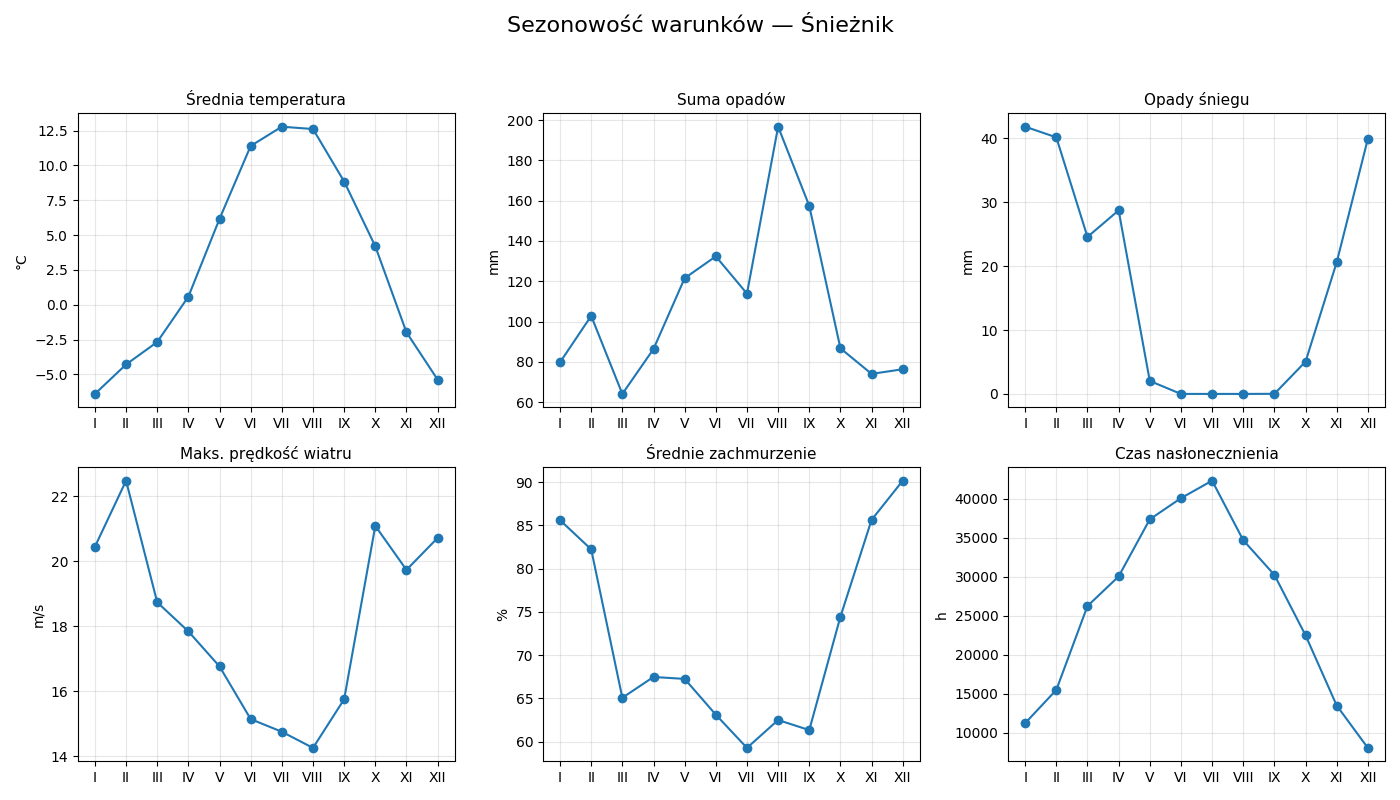

What the dashboard file says about the page in this screenshot:
{"tool":"powerbi","page":{"name":"Sezonowość","canvas":[1280,720],"ordinal":1},"visuals":[{"type":"shape","box":[5.4,271.1,591.2,127.9],"z":0},{"type":"pivotTable","fields":{"Rows":["kgp_all_monthly_clean.Szczyt"],"Columns":["Calendar.MonthName"],"Values":["HeatmapMetric.HeatmapValue"]},"box":[636.6,0,612.1,720],"z":1000},{"type":"advancedSlicerVisual","title":"Analizowana zmienna","fields":{"Values":["HeatmapMetric.Label"]},"box":[0,81.6,602.1,130.6],"z":2000},{"type":"textbox","box":[0,0,630.2,70],"z":3000},{"type":"actionButton","box":[1241,7,38,28],"z":4000},{"type":"cardVisual","title":"Najwyższe średnie odchylenie","fields":{"Data":["HeatmapMetric.KPI Max - Miesiąc"]},"box":[15.4,292.9,266.6,119.7],"z":5000},{"type":"textbox","box":[0,235.8,521.4,57.1],"z":6000},{"type":"cardVisual","title":"Najniższe średnie odchylenie","fields":{"Data":["HeatmapMetric.KPI Min - Miesiąc"]},"box":[331.9,292.9,259.3,119.7],"z":7000},{"type":"lineChart","fields":{"Category":["Calendar.MonthName"],"Y":["HeatmapMetric.KPI Średnie odchylenie"]},"box":[0,429.8,591.2,244.8],"z":8000},{"type":"textbox","box":[0,684.6,591.2,35.4],"z":9000}]}

Visuals, with their boxes in screenshot pixels (x1, y1, x2, y2), scaled from the page's 1280x720 canvas onto the 1400x800 screenshot:
shape: {"left": 6, "top": 301, "right": 653, "bottom": 443}
pivotTable - kgp_all_monthly_clean.Szczyt x Calendar.MonthName: {"left": 696, "top": 0, "right": 1366, "bottom": 799}
"Analizowana zmienna" advancedSlicerVisual: {"left": 0, "top": 91, "right": 659, "bottom": 236}
textbox: {"left": 0, "top": 0, "right": 689, "bottom": 78}
actionButton: {"left": 1357, "top": 8, "right": 1399, "bottom": 39}
"Najwyższe średnie odchylenie" cardVisual: {"left": 17, "top": 325, "right": 308, "bottom": 458}
textbox: {"left": 0, "top": 262, "right": 570, "bottom": 325}
"Najniższe średnie odchylenie" cardVisual: {"left": 363, "top": 325, "right": 647, "bottom": 458}
lineChart - Calendar.MonthName x HeatmapMetric.KPI Średnie odchylenie: {"left": 0, "top": 478, "right": 647, "bottom": 750}
textbox: {"left": 0, "top": 761, "right": 647, "bottom": 799}
